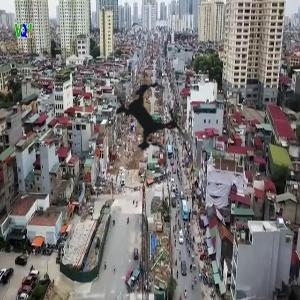drone: (89, 54, 216, 181)
